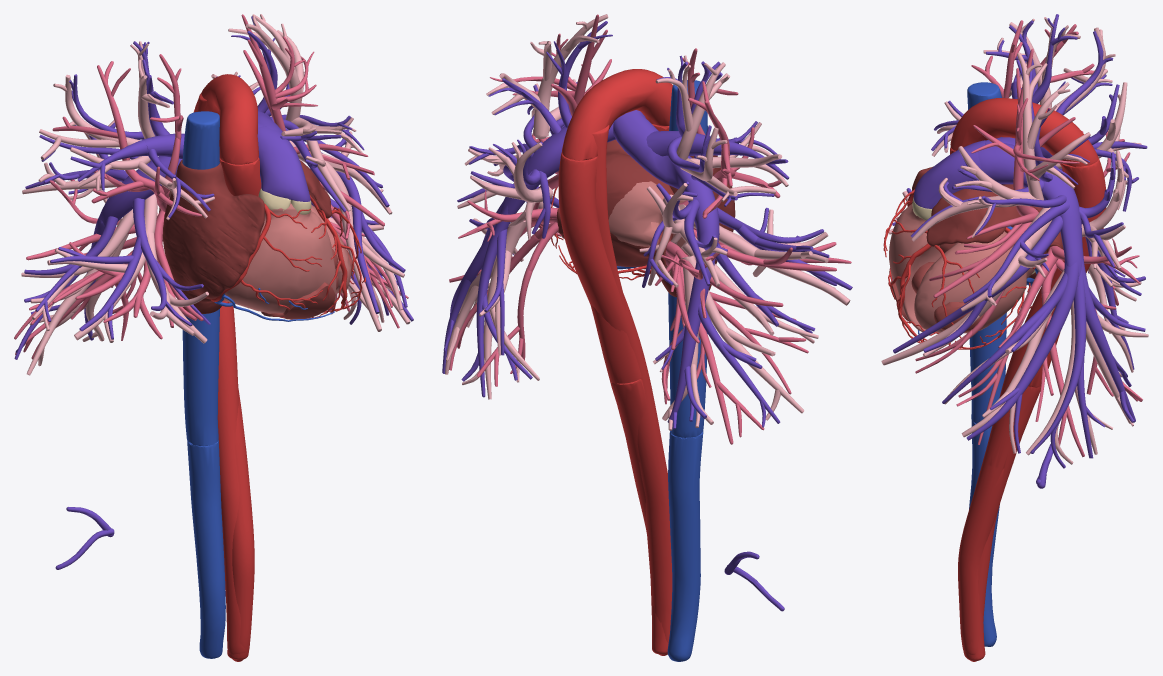
The model's file is cardiovascular-preview.glb.
3 renders of one model, left to right at view 1: azimuth 30°, elevation 25°; view 2: azimuth 150°, elevation 25°; view 3: azimuth 270°, elevation 25°, orthographic. The views are drawn at different scales.
Parts seen in each view (by area): view 1: aorta, right_pulmonary_artery, right_lung_bronchial_tree, inferior_vena_cava, heart_wall_right_atrium, heart_cavity_right_ventricle, left_lung_bronchial_tree, right_superior_pulmonary_vein, left_superior_pulmonary_vein, left_pulmonary_artery, heart_coronary_arteries, pulmonary_trunk (+7 smaller); view 2: aorta, right_pulmonary_artery, right_lung_bronchial_tree, left_pulmonary_artery, inferior_vena_cava, left_lung_bronchial_tree, right_inferior_pulmonary_vein, right_superior_pulmonary_vein, heart_wall_left_atrium, left_superior_pulmonary_vein, heart_cavity_left_atrium, left_inferior_pulmonary_vein; view 3: left_pulmonary_artery, aorta, left_lung_bronchial_tree, left_superior_pulmonary_vein, right_pulmonary_artery, heart_cavity_left_ventricle, inferior_vena_cava, right_lung_bronchial_tree, left_inferior_pulmonary_vein, left_lung_other_pulmonary_arteries, heart_wall_left_atrium, heart_cavity_right_ventricle (+5 smaller).
Boxes of the visible parts, box(x1,y1,x2,y2) form: aorta: box(193, 74, 261, 661); right_pulmonary_artery: box(14, 41, 262, 569); right_lung_bronchial_tree: box(21, 41, 214, 375); inferior_vena_cava: box(182, 309, 225, 658); heart_wall_right_atrium: box(162, 159, 264, 313); heart_cavity_right_ventricle: box(224, 202, 336, 313); left_lung_bronchial_tree: box(211, 14, 410, 331); right_superior_pulmonary_vein: box(52, 54, 203, 339); left_superior_pulmonary_vein: box(241, 14, 392, 307); left_pulmonary_artery: box(216, 16, 413, 324); heart_coronary_arteries: box(210, 195, 365, 318); pulmonary_trunk: box(257, 126, 310, 201); aorta: box(558, 69, 672, 655); right_pulmonary_artery: box(613, 55, 852, 611); right_lung_bronchial_tree: box(639, 55, 850, 430); left_pulmonary_artery: box(442, 21, 615, 397); inferior_vena_cava: box(667, 292, 707, 661); left_lung_bronchial_tree: box(445, 14, 608, 399); right_inferior_pulmonary_vein: box(655, 241, 808, 444); right_superior_pulmonary_vein: box(678, 48, 851, 271); heart_wall_left_atrium: box(556, 139, 679, 266); left_superior_pulmonary_vein: box(458, 14, 611, 241); heart_cavity_left_atrium: box(608, 181, 664, 246); left_inferior_pulmonary_vein: box(449, 218, 558, 386); left_pulmonary_artery: box(911, 59, 1145, 468); aorta: box(950, 98, 1106, 661); left_lung_bronchial_tree: box(881, 52, 1148, 464); left_superior_pulmonary_vein: box(915, 48, 1139, 373); right_pulmonary_artery: box(892, 14, 1147, 488); heart_cavity_left_ventricle: box(914, 231, 1034, 333); inferior_vena_cava: box(969, 312, 1006, 646); right_lung_bronchial_tree: box(888, 17, 1141, 333); left_inferior_pulmonary_vein: box(956, 247, 1142, 457); left_lung_other_pulmonary_arteries: box(893, 202, 1069, 353); heart_wall_left_atrium: box(926, 184, 1063, 278); heart_cavity_right_ventricle: box(889, 204, 941, 331).
Size of the model in its own units: 0.242 by 0.4092 by 0.1576.
